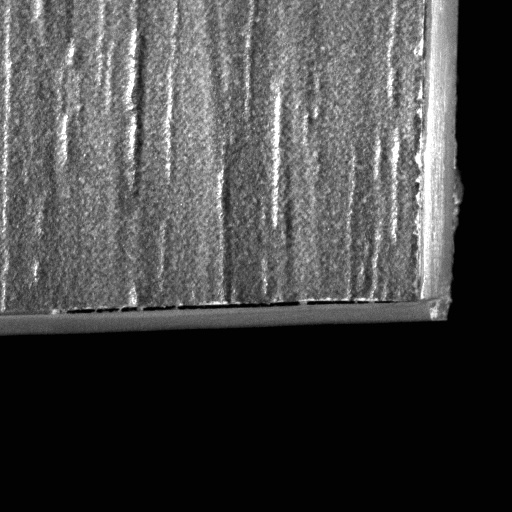jiaofeng: (57, 299, 396, 318)
